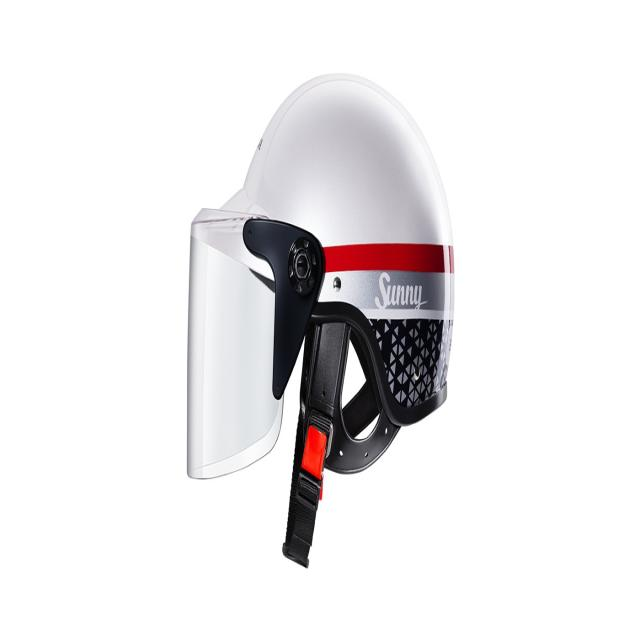Helmet: (160, 64, 492, 575)
